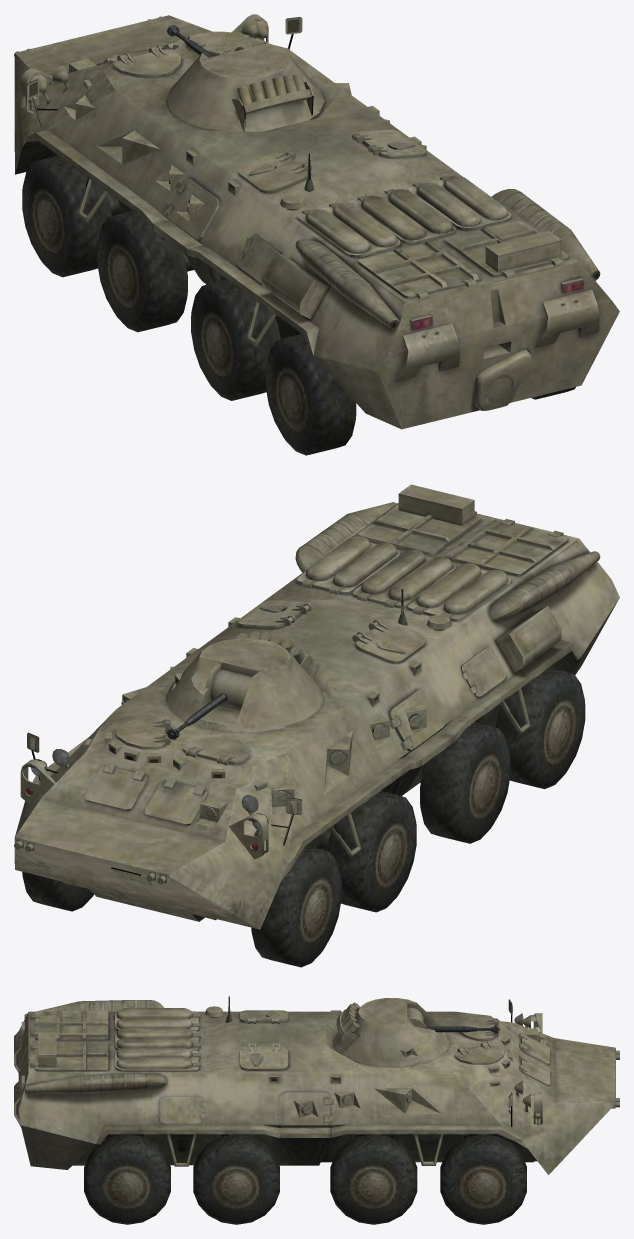
Rendered from btr.glb.
The picture shows the model from 3 angles, top to bottom: view 1: azimuth 30°, elevation 25°; view 2: azimuth 150°, elevation 25°; view 3: azimuth 270°, elevation 25°; orthographic projection. The views are drawn at different scales.
Visible parts, largest first — view 1: btr; view 2: btr; view 3: btr.
Boxes of the visible parts, x1,y1,x2,y2 form: btr: [14, 14, 619, 455]; btr: [14, 484, 619, 967]; btr: [14, 996, 619, 1224].
Bounding box in the file's own units: 2.94 × 2.35 × 7.65.
1 material, 1 textured.
